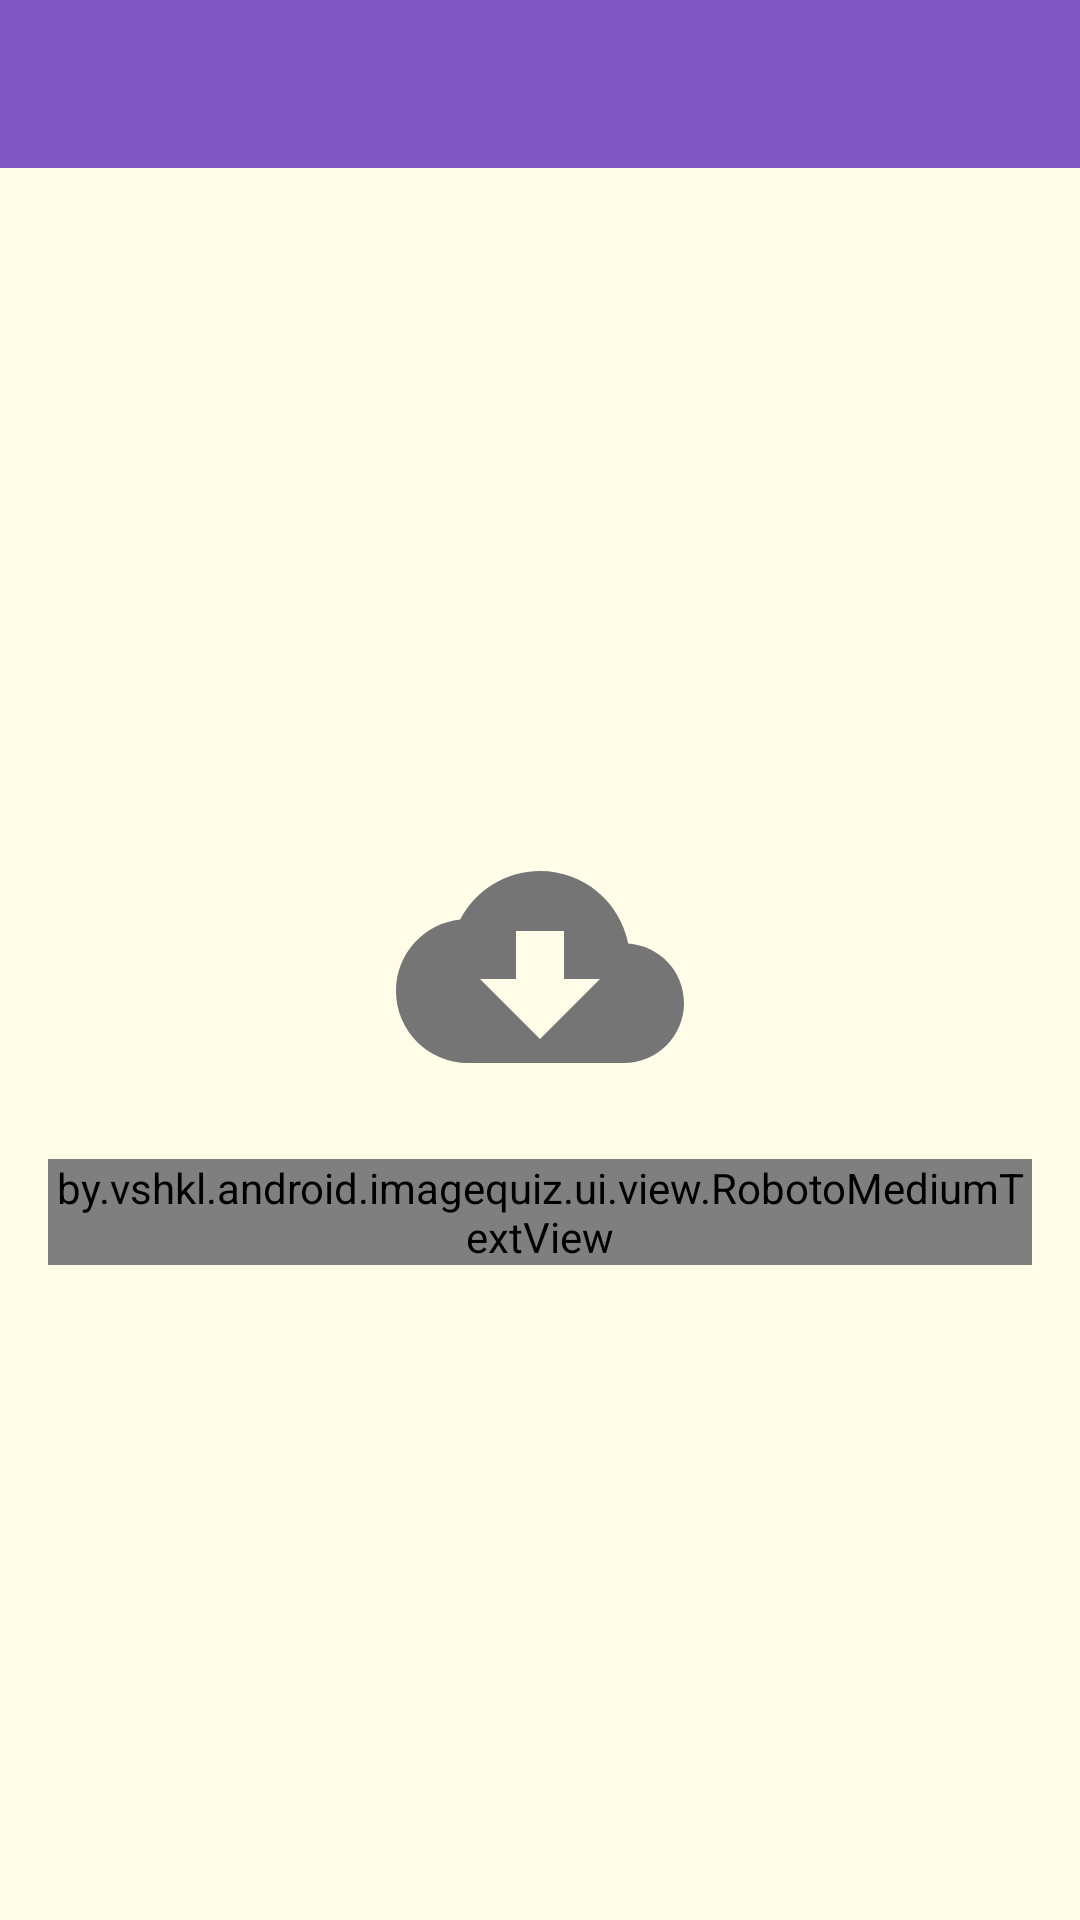

Locate icon controls on the screen. Image size 1080×1920, boxes as Rect(x1, y1, x2, y2).
download: Rect(396, 871, 684, 1063)
